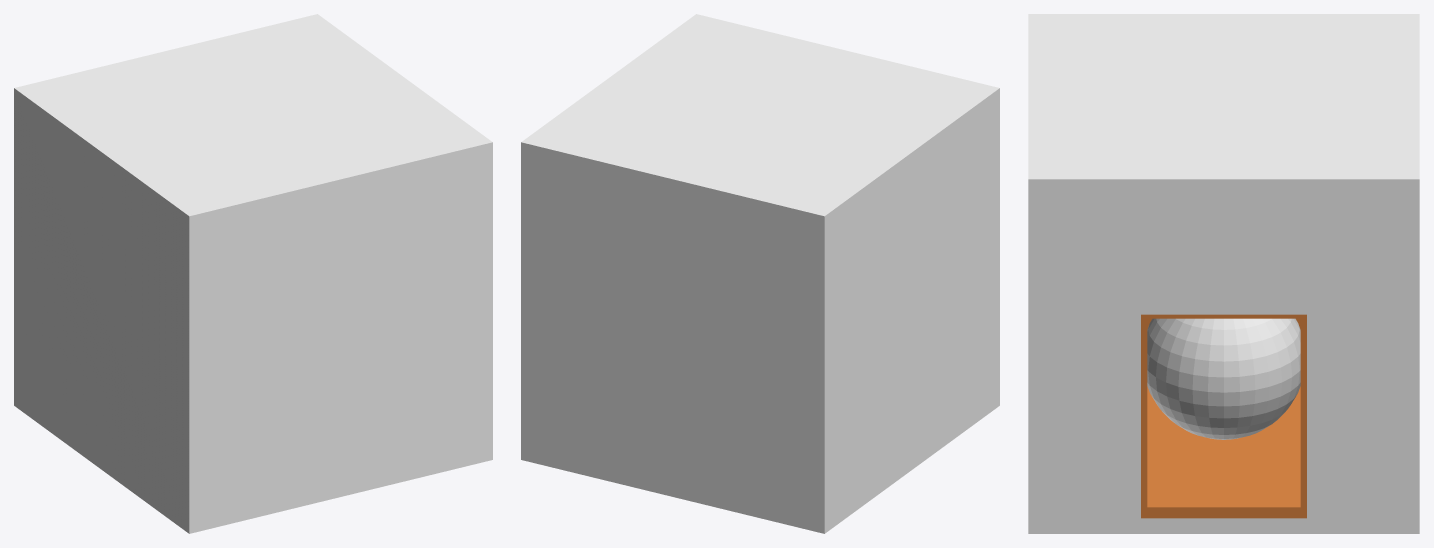
Rendered from holdout.glb.
3 renders of one model, left to right at view 1: azimuth 30°, elevation 25°; view 2: azimuth 150°, elevation 25°; view 3: azimuth 270°, elevation 25°, orthographic. The views are drawn at different scales.
Parts seen in each view (by area): view 1: OuterWall; view 2: OuterWall; view 3: OuterWall, InnerRoom, Ball.
Part boxes in pixels (left/top/right/bottom): OuterWall: left=14, top=14, right=492, bottom=533; OuterWall: left=521, top=14, right=999, bottom=533; OuterWall: left=1028, top=14, right=1419, bottom=533; InnerRoom: left=1141, top=314, right=1306, bottom=518; Ball: left=1147, top=318, right=1300, bottom=439.
Size of the model in its own units: 4.77 by 4.77 by 4.77.
